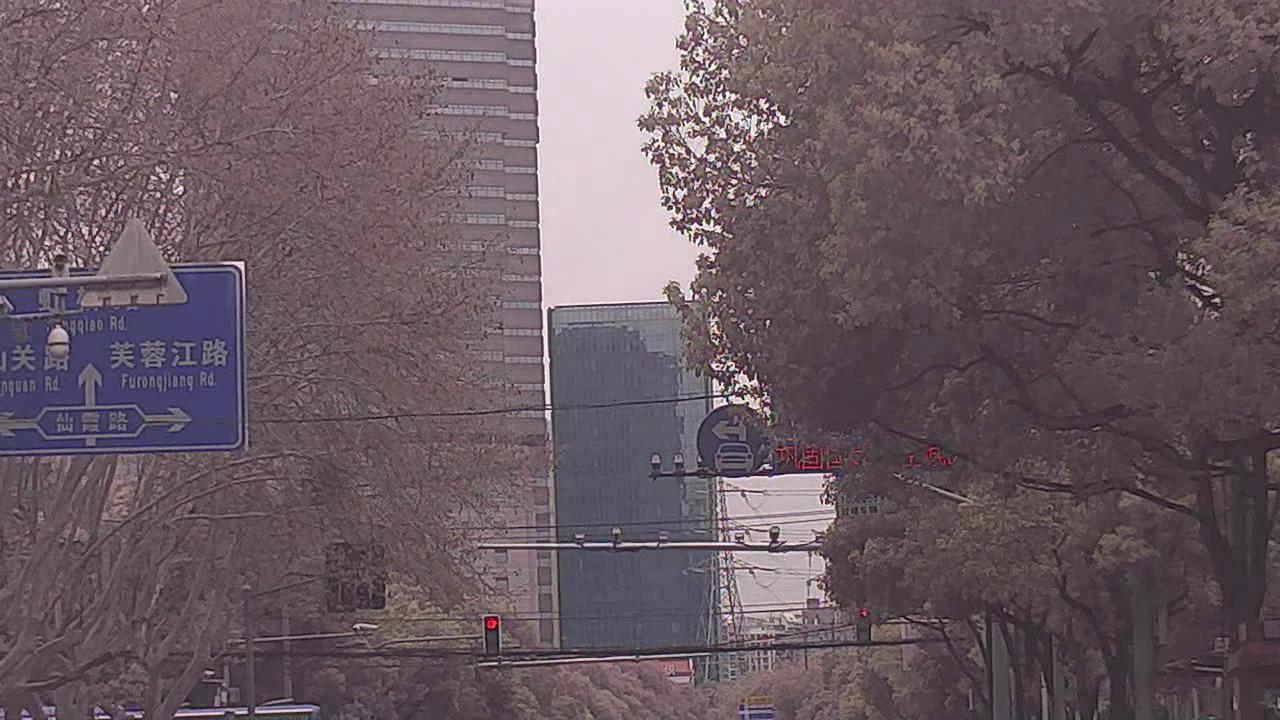traffic_light: (483, 611, 502, 656)
